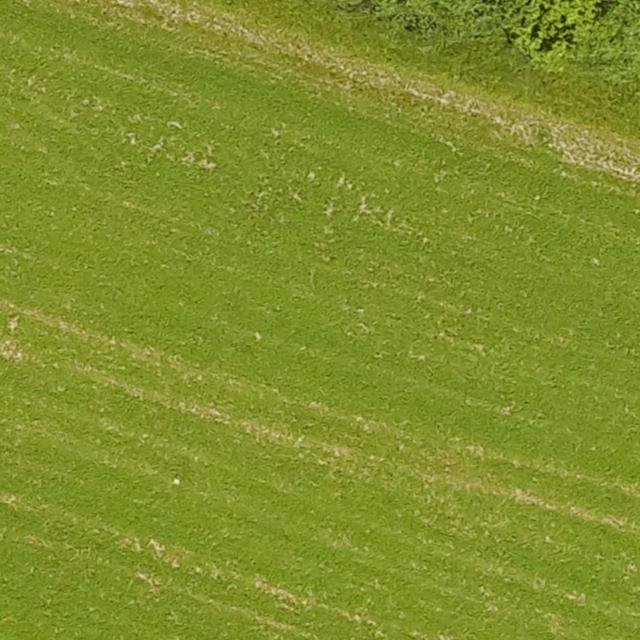tree: (394, 0, 640, 60), (356, 0, 640, 47), (492, 0, 634, 61)
